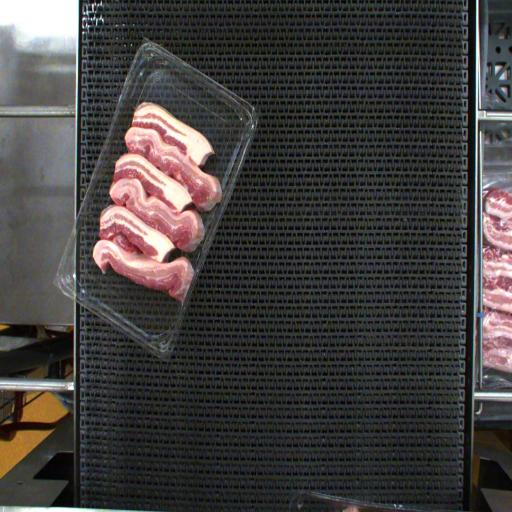packaging-error: (171, 271, 202, 304)
